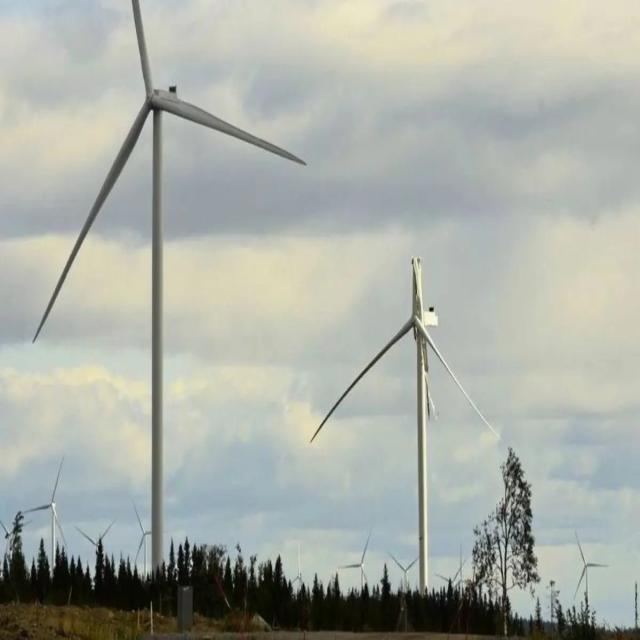solid-blade: (32, 98, 151, 343), (310, 318, 415, 440), (154, 94, 305, 164), (412, 257, 421, 317)
